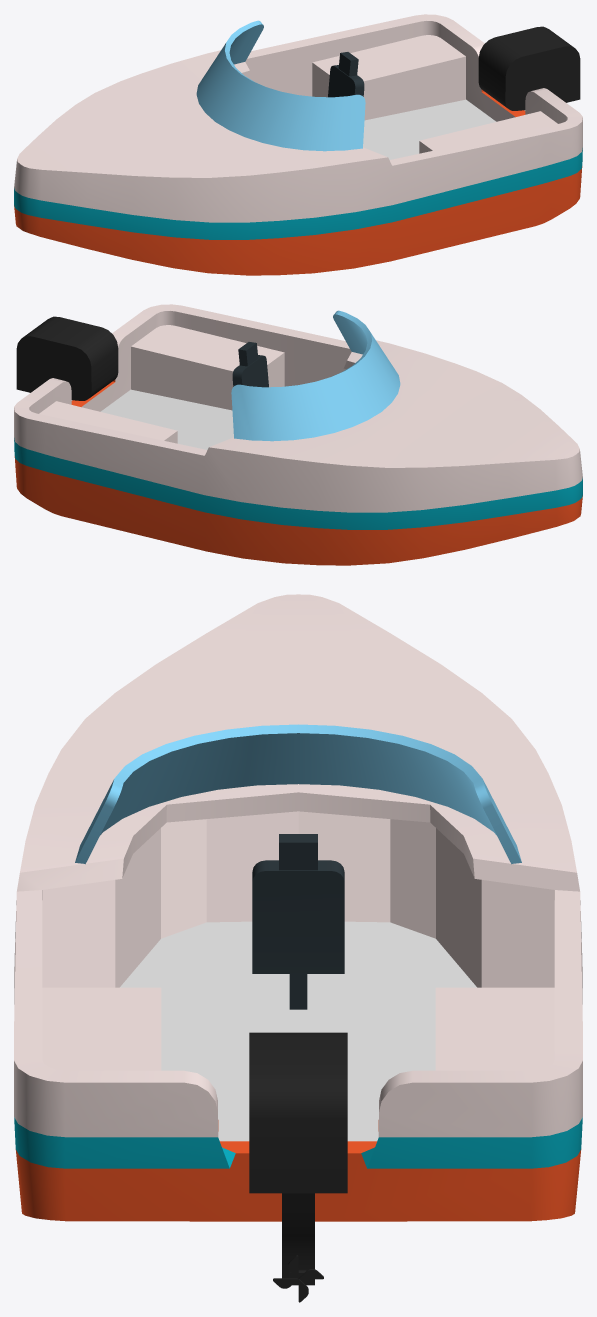
File: speedboat.gltf
3 renders of one model, top to bottom at view 1: azimuth 30°, elevation 25°; view 2: azimuth 150°, elevation 25°; view 3: azimuth 270°, elevation 25°, orthographic. The views are drawn at different scales.
Parts seen in each view (by area): view 1: Cube.780, Circle.2401, Cube.782, Cube.781, Cube.783; view 2: Cube.780, Circle.2401, Cube.782, Cube.781, Cube.783; view 3: Cube.780, Cube.781, Circle.2401, Cube.782, Cube.783.
Part boxes in pixels (x1,y1,x2,y2): Cube.780: (14, 14, 582, 275); Circle.2401: (196, 20, 365, 151); Cube.782: (478, 26, 580, 110); Cube.781: (363, 99, 496, 159); Cube.783: (328, 52, 364, 97); Cube.780: (14, 304, 582, 565); Circle.2401: (231, 310, 400, 441); Cube.782: (16, 316, 118, 400); Cube.781: (100, 389, 233, 449); Cube.783: (232, 342, 268, 387); Cube.780: (14, 594, 582, 1221); Cube.781: (120, 921, 476, 1141); Circle.2401: (75, 724, 521, 864); Cube.782: (249, 1032, 347, 1302); Cube.783: (252, 834, 344, 1009).
Size of the model in its own units: 2.28 by 0.6401 by 1.11.
1 material, 1 textured.
